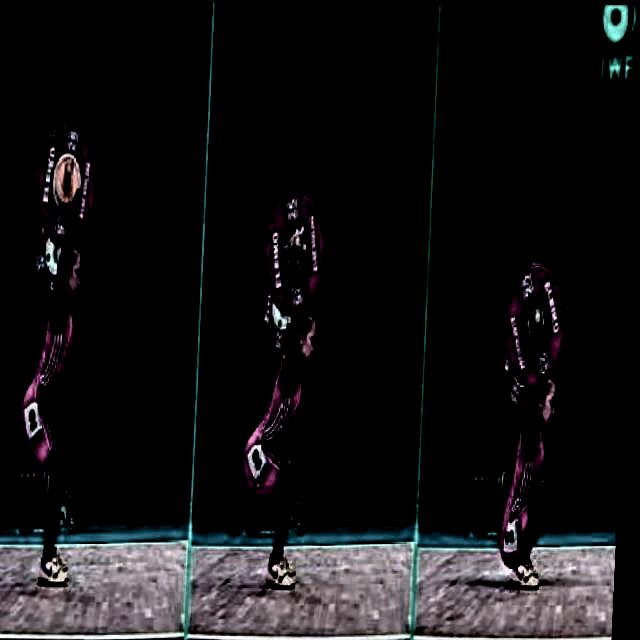barbell: (505, 257, 577, 390), (263, 185, 332, 317), (35, 116, 103, 248)
